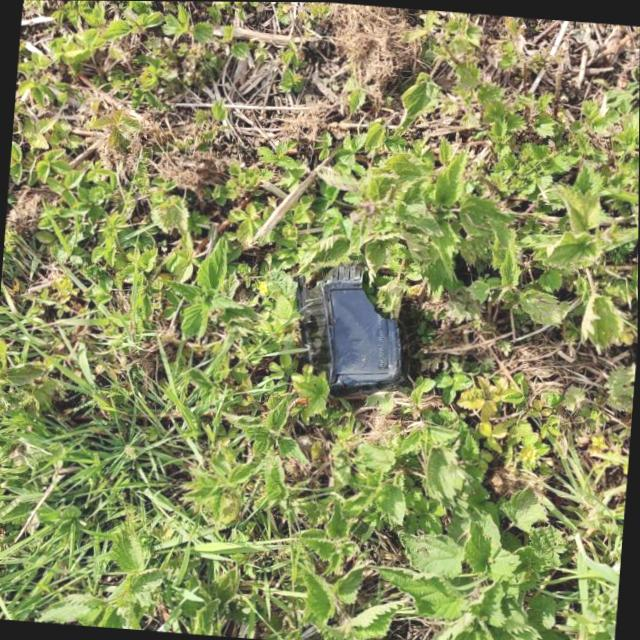Plastic: (283, 250, 419, 404)
